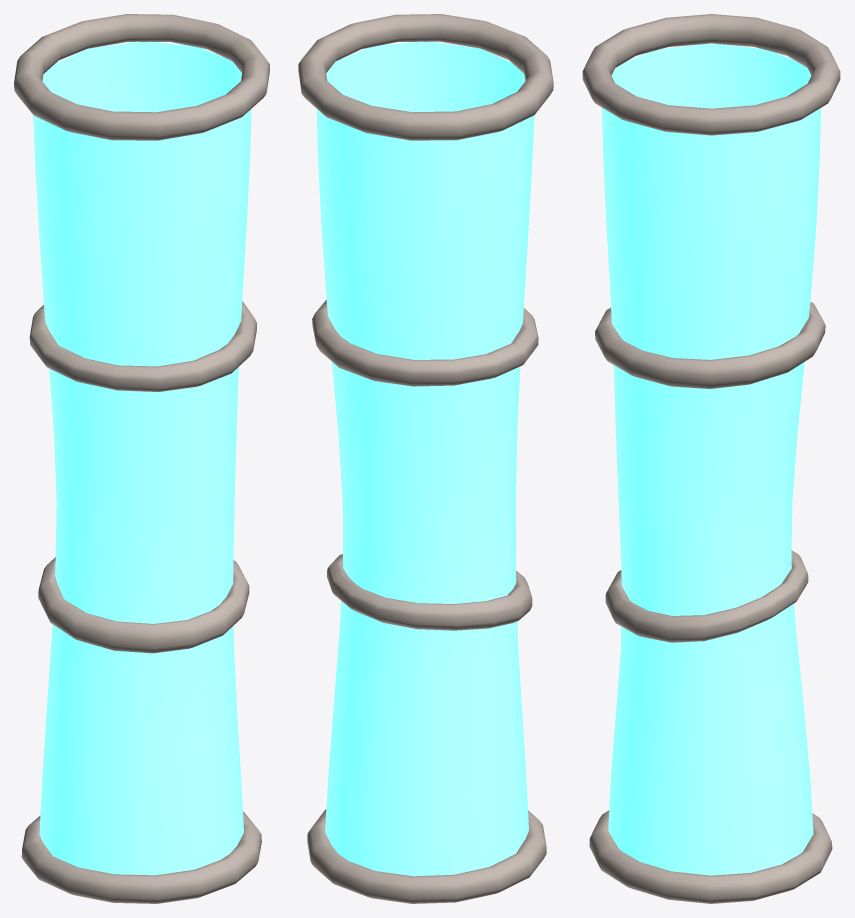
The model's file is SM_Lift_05.fbx.
3 renders of one model, left to right at view 1: azimuth 30°, elevation 25°; view 2: azimuth 150°, elevation 25°; view 3: azimuth 270°, elevation 25°, orthographic.
Parts seen in each view (by area): view 1: SM_Lift_05; view 2: SM_Lift_05; view 3: SM_Lift_05.
Boxes of the visible parts, box(x1,y1,x2,y2) form: SM_Lift_05: box(14, 14, 269, 903); SM_Lift_05: box(298, 14, 553, 903); SM_Lift_05: box(582, 14, 840, 903).
Size of the model in its own units: 1100 by 3750 by 1100.
